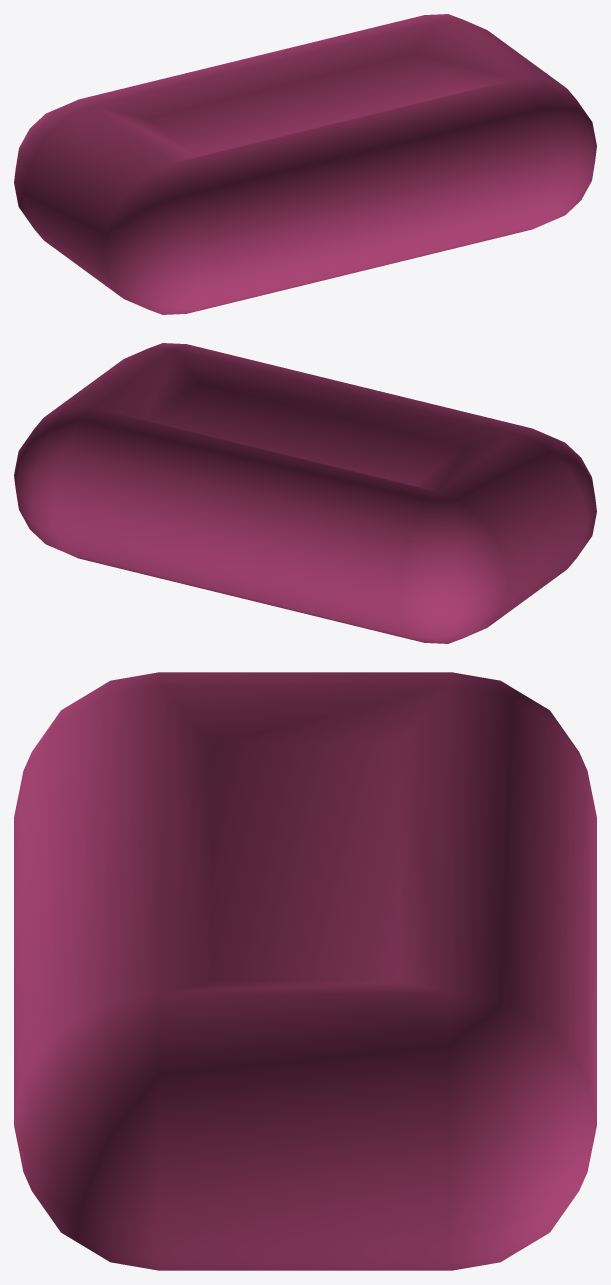
Rendered from soap.glb.obj.
3 renders of one model, top to bottom at view 1: azimuth 30°, elevation 25°; view 2: azimuth 150°, elevation 25°; view 3: azimuth 270°, elevation 25°, orthographic. The views are drawn at different scales.
Parts seen in each view (by area): view 1: obj1; view 2: obj1; view 3: obj1.
Boxes of the visible parts, bbox=[...] form: obj1: bbox=[14, 14, 596, 314]; obj1: bbox=[14, 343, 596, 643]; obj1: bbox=[14, 672, 596, 1270].
Bounding box in the file's own units: 7 × 2 × 4.
